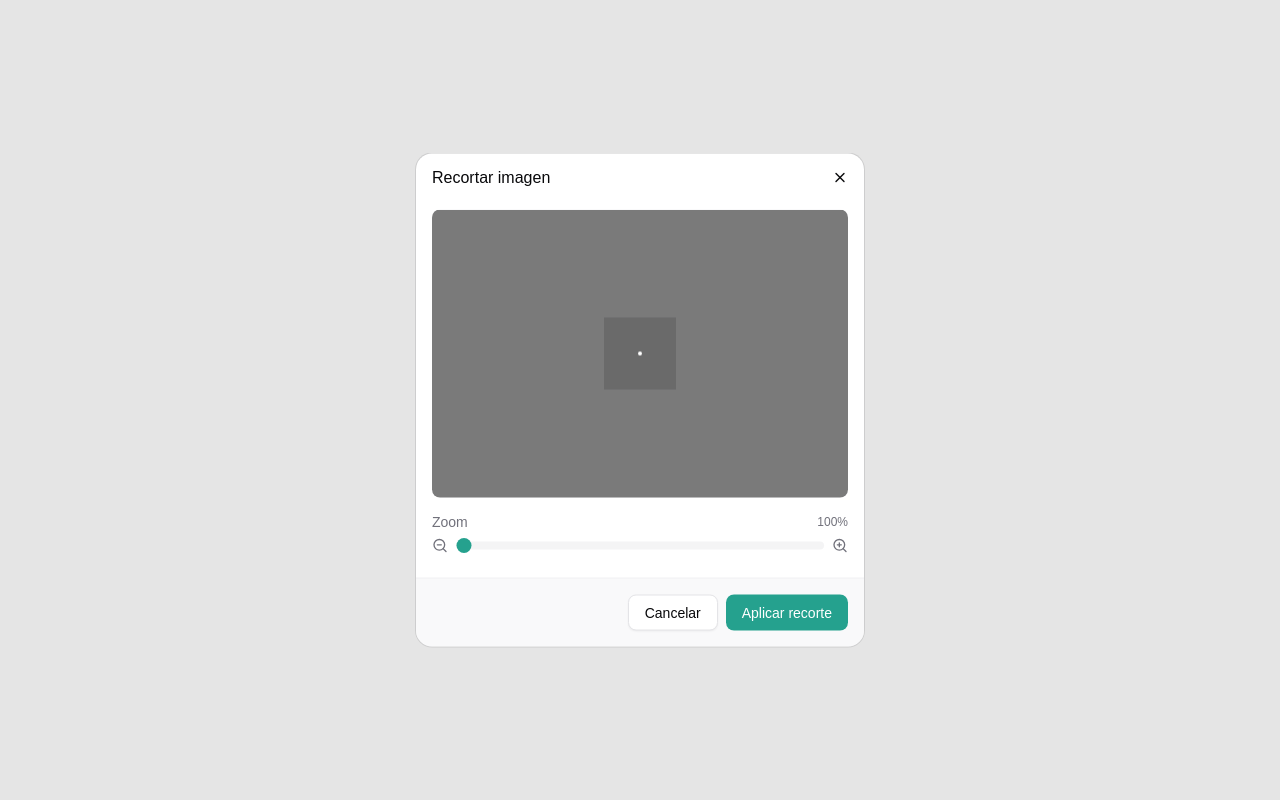
ImageCropperDialog › cambia el zoom mediante el slider
The image size is (1280, 800).
Step 1. Set the slider labelled "Zoom" to "2.5" → (728,546), box [456,542,824,550]
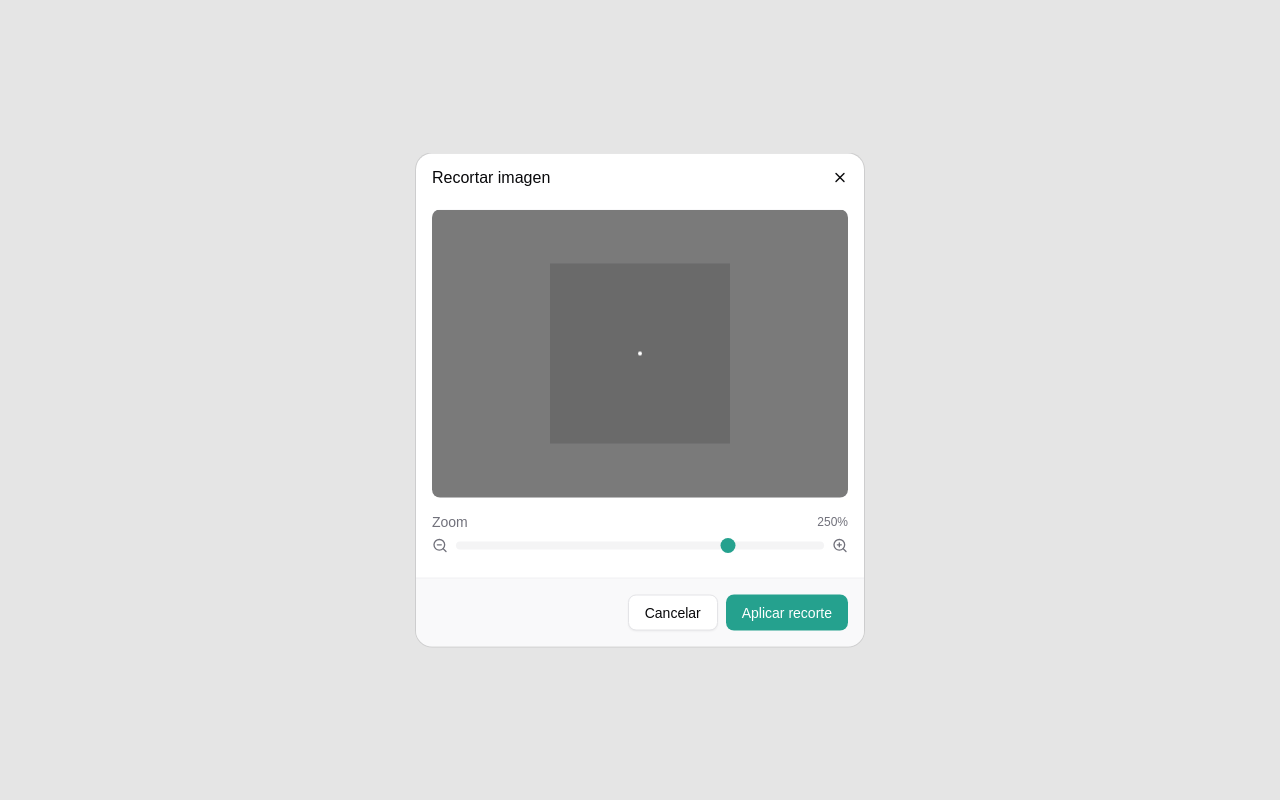
Expected: the text "250%" is shown, [817,514,848,530]
